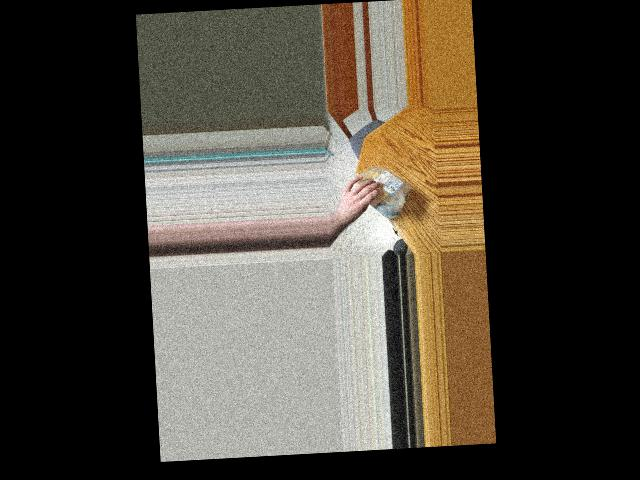cheese: (344, 162, 413, 218)
